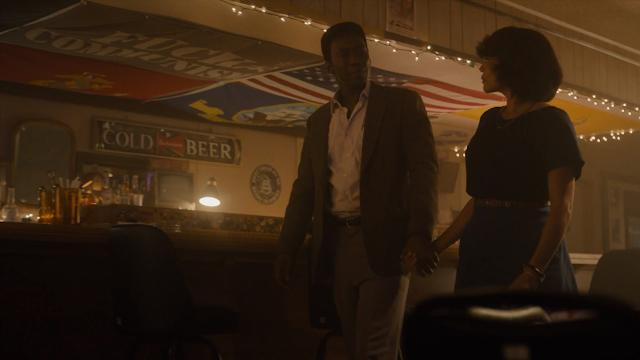person: (283, 22, 439, 356), (455, 22, 581, 292)
